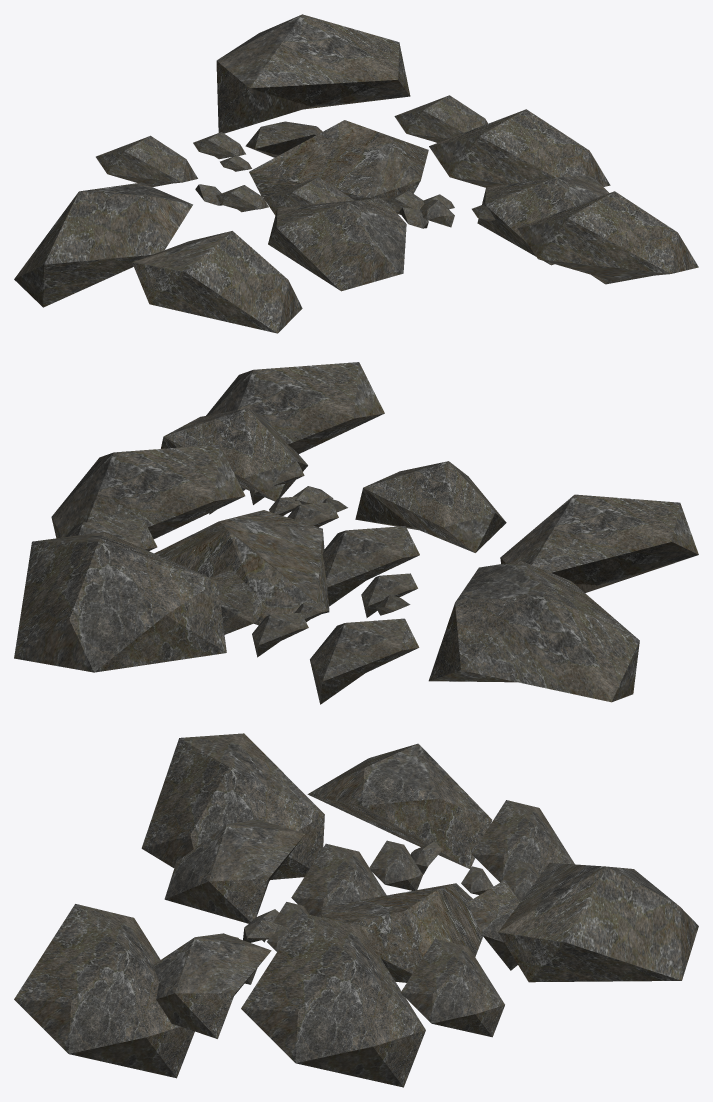
The model's file is small2.fbx.
3 views of the same model, one above another, from view 1: azimuth 30°, elevation 25°; view 2: azimuth 150°, elevation 25°; view 3: azimuth 270°, elevation 25° (orthographic). The views are drawn at different scales.
Parts seen in each view (by area): view 1: Rocks3; view 2: Rocks3; view 3: Rocks3.
Part boxes in pixels (<box>): Rocks3: <box>14,14,698,333</box>; Rocks3: <box>14,362,698,704</box>; Rocks3: <box>14,733,698,1087</box>.
Bounding box in the file's own units: 207 × 54.74 × 214.
